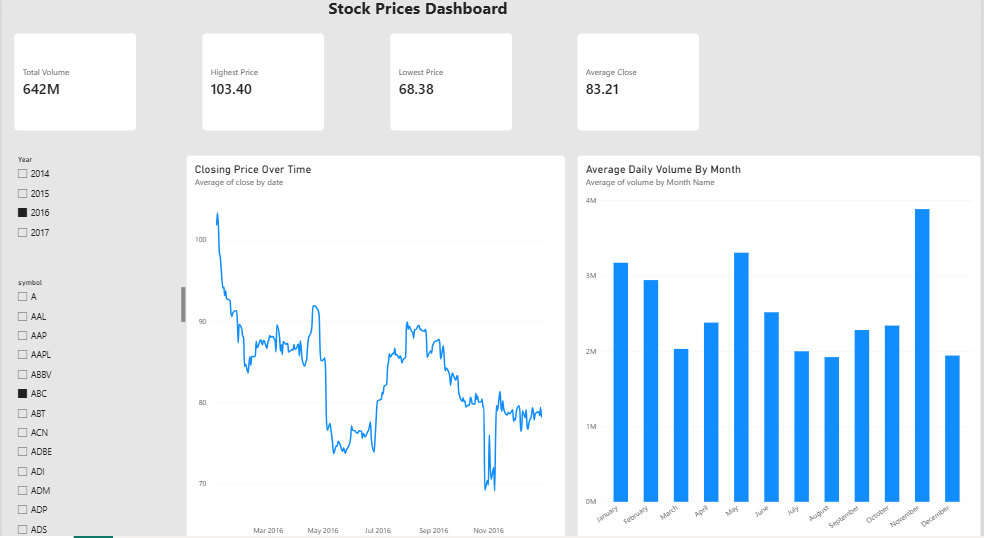

This screenshot's page, from the dashboard's own definition file:
{"tool":"powerbi","page":{"name":"Page 1","canvas":[1920,1080],"ordinal":0},"visuals":[{"type":"slicer","fields":{"Values":["2) Stock Prices Data Set.symbol"]},"box":[24,552,336,528],"z":0},{"type":"lineChart","title":"Closing Price Over Time","fields":{"Category":["2) Stock Prices Data Set.date"],"Y":["Avg(2) Stock Prices Data Set.close)"]},"box":[360,312,744,768],"z":1000},{"type":"clusteredColumnChart","title":"Average Daily Volume By Month","fields":{"Category":["2) Stock Prices Data Set.Month Name"],"Y":["Avg(2) Stock Prices Data Set.volume)"]},"box":[1128,312,792,768],"z":2000},{"type":"slicer","fields":{"Values":["2) Stock Prices Data Set.Year"]},"box":[24,312,240,192],"z":3000},{"type":"cardVisual","fields":{"Data":["2) Stock Prices Data Set.Highest Price"]},"box":[392,72,240,192],"z":4000},{"type":"cardVisual","fields":{"Data":["2) Stock Prices Data Set.Lowest Price"]},"box":[760,72,240,192],"z":5000},{"type":"cardVisual","fields":{"Data":["2) Stock Prices Data Set.Average Close"]},"box":[1128,72,240,192],"z":6000},{"type":"cardVisual","fields":{"Data":["2) Stock Prices Data Set.Total Volume"]},"box":[24,72,240,192],"z":7000},{"type":"textbox","box":[0,0,1632,72],"z":8000}]}

Visuals, with their boxes in screenshot pixels (x1, y1, x2, y2), scaled from the page's 1920x1080 canvas onto the 984x538 screenshot:
slicer - 2) Stock Prices Data Set.symbol: bbox=[12, 275, 184, 537]
"Closing Price Over Time" lineChart: bbox=[184, 155, 566, 537]
"Average Daily Volume By Month" clusteredColumnChart: bbox=[578, 155, 983, 537]
slicer - 2) Stock Prices Data Set.Year: bbox=[12, 155, 135, 251]
cardVisual - 2) Stock Prices Data Set.Highest Price: bbox=[201, 36, 324, 132]
cardVisual - 2) Stock Prices Data Set.Lowest Price: bbox=[389, 36, 512, 132]
cardVisual - 2) Stock Prices Data Set.Average Close: bbox=[578, 36, 701, 132]
cardVisual - 2) Stock Prices Data Set.Total Volume: bbox=[12, 36, 135, 132]
textbox: bbox=[0, 0, 836, 36]
